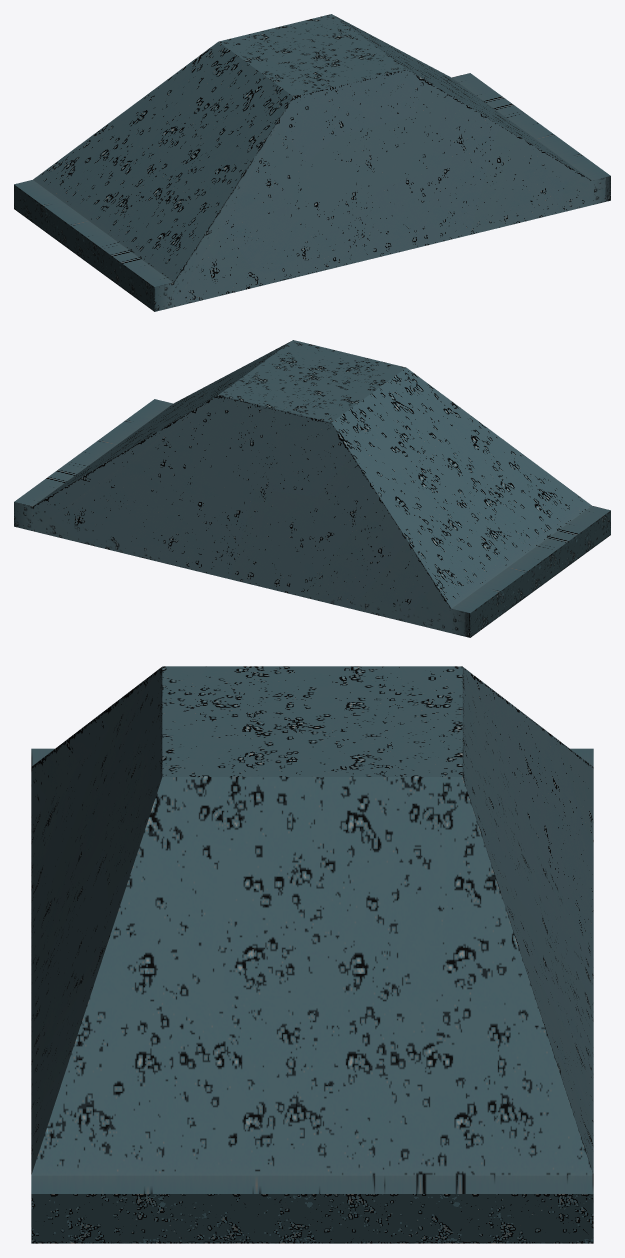
Rendered from RoofA.fbx.
The picture shows the model from 3 angles, top to bottom: view 1: azimuth 30°, elevation 25°; view 2: azimuth 150°, elevation 25°; view 3: azimuth 270°, elevation 25°; orthographic projection. The views are drawn at different scales.
Parts seen in each view (by area): view 1: pCube4; view 2: pCube4; view 3: pCube4.
Part boxes in pixels (bbox=[...]): pCube4: bbox=[14, 14, 610, 311]; pCube4: bbox=[14, 340, 610, 637]; pCube4: bbox=[31, 666, 593, 1243].
Size of the model in its own units: 2179 by 683 by 1163.
